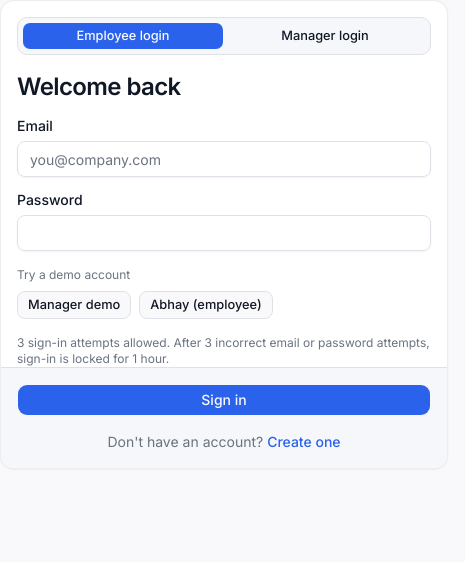
Test: <LoginForm /> › fills manager demo credentials when selected
This screenshot has width=465, height=562.
Step 1. Click the button "Manager demo" → point(74, 305), box [17,291,131,319]
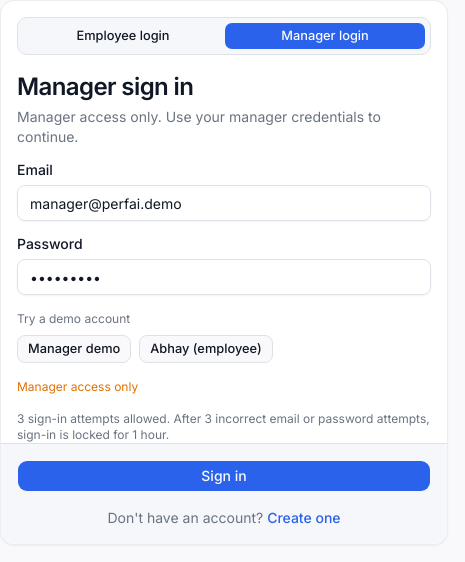
Expected: the field labelled "Email" holds "manager@perfai.demo", [17,185,431,221]
Expected: the password field labelled "Password" holds "Password1", [17,259,431,295]
Expected: the text "Manager sign in" is shown, [17,72,193,101]
